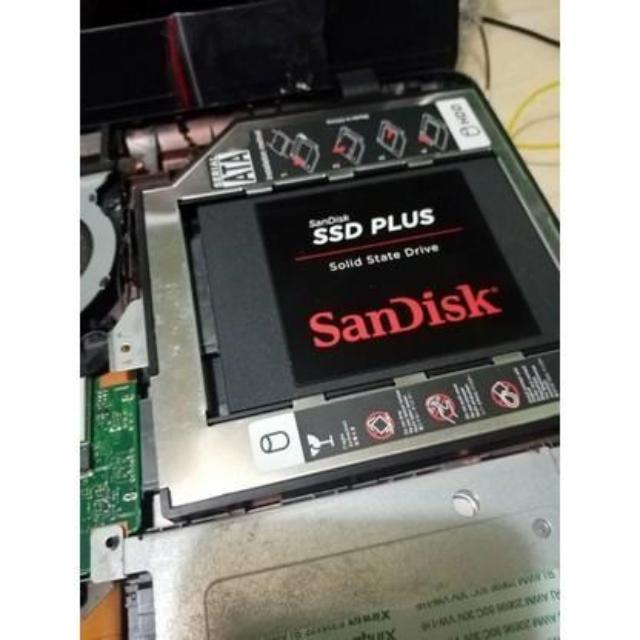DISK: (193, 150, 562, 413)
